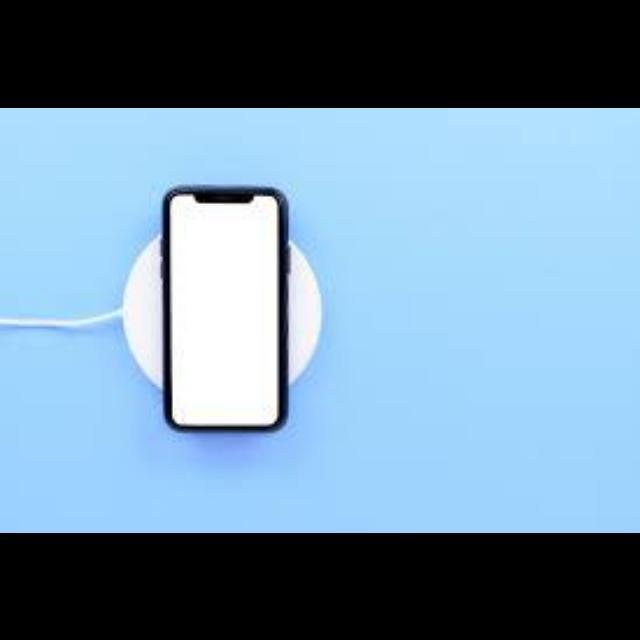PhoneUse: (162, 172, 294, 428)
